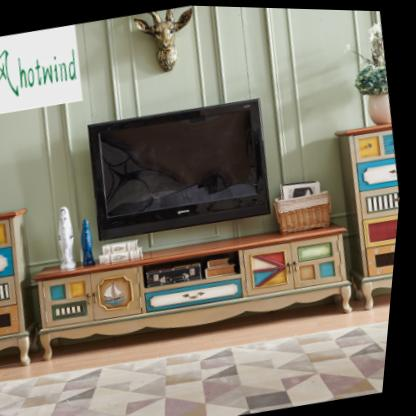Carpet: (3, 319, 394, 416)
TV stand: (30, 205, 367, 371)
